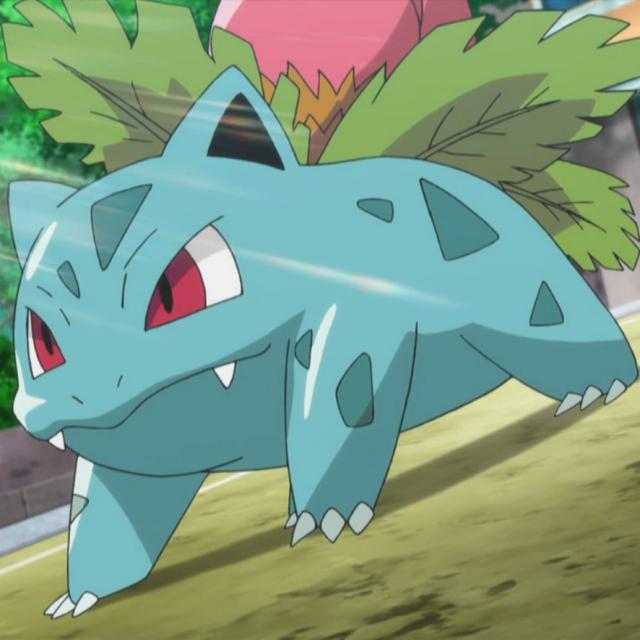Ivysaur: (8, 0, 593, 490)
